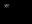person: (3, 3, 11, 10)
